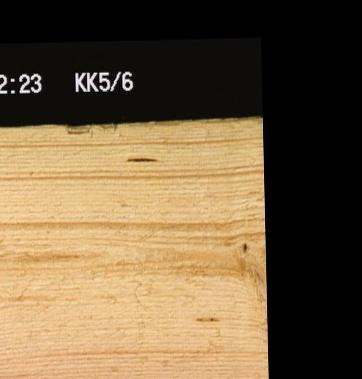small_knot: (235, 234, 256, 257)
